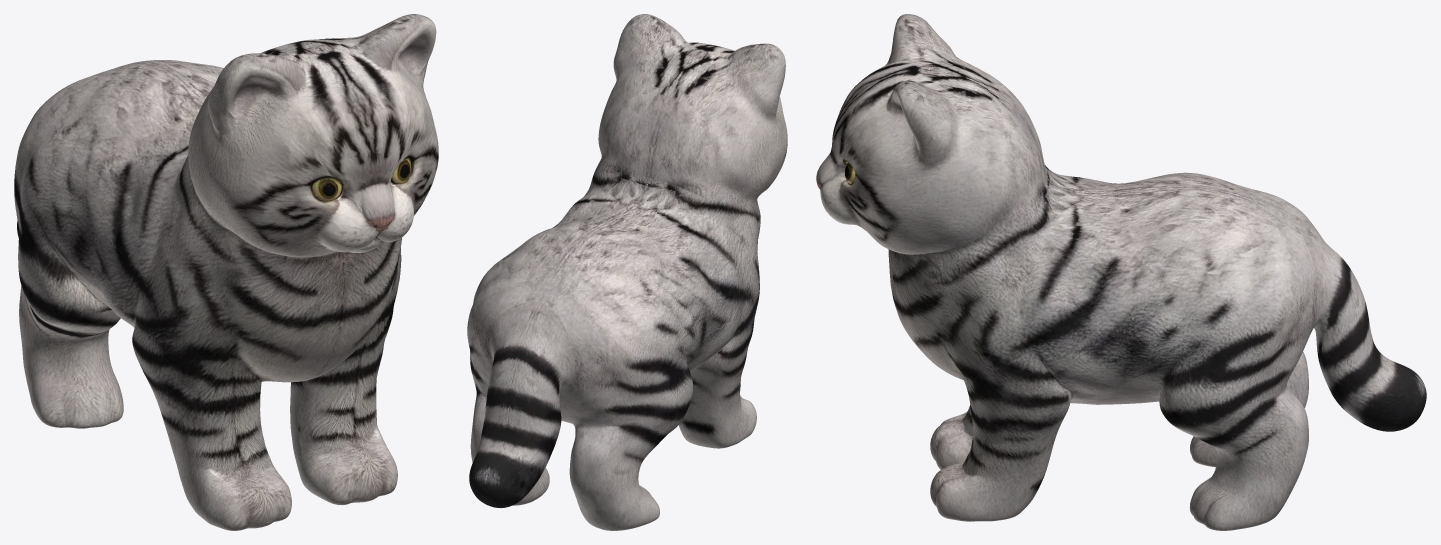
File: meshy-americanshort.glb
3 views of the same model, side by side, from view 1: azimuth 30°, elevation 25°; view 2: azimuth 150°, elevation 25°; view 3: azimuth 270°, elevation 25° (orthographic). The views are drawn at different scales.
Parts seen in each view (by area): view 1: Mesh_0; view 2: Mesh_0; view 3: Mesh_0.
Part boxes in pixels (x1,y1,x2,y2): Mesh_0: (14, 14, 438, 530); Mesh_0: (467, 14, 787, 530); Mesh_0: (816, 14, 1426, 530).
Size of the model in its own units: 0.8663 by 1.49 by 1.9.
1 material, 1 textured.
